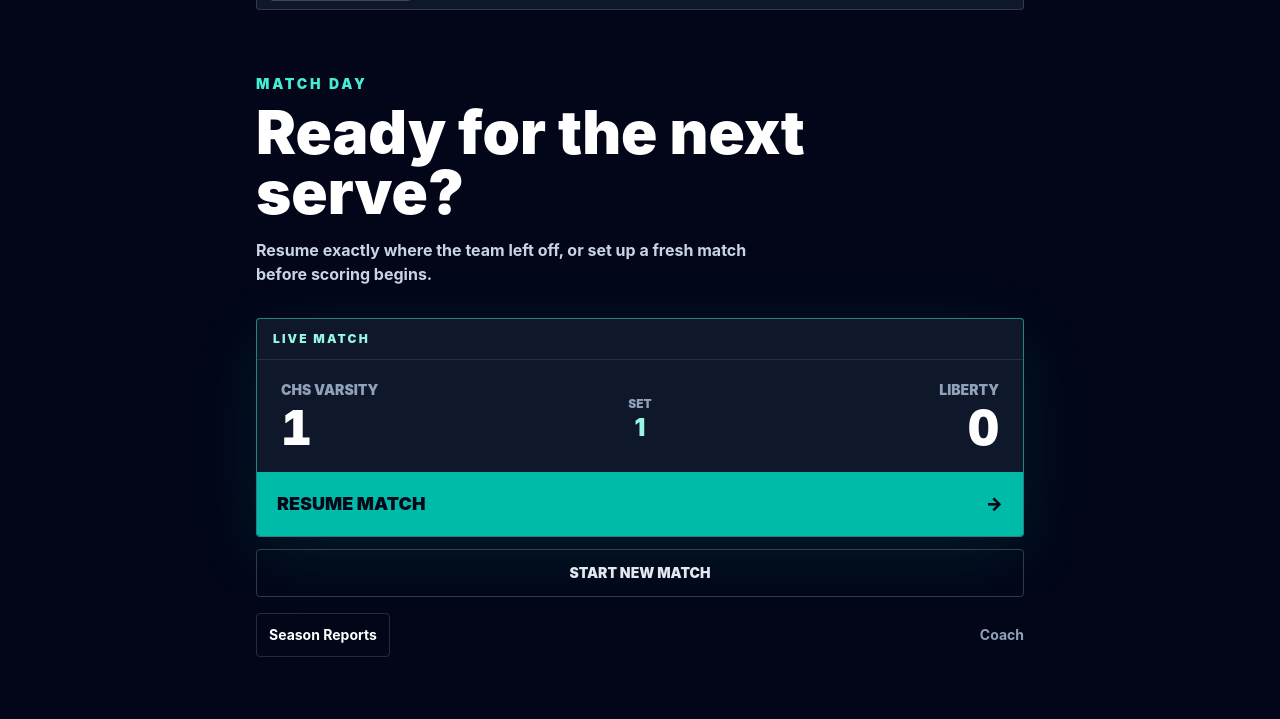
Test: CourtsideMatchbook match launch flow › cancels manual match completion without changing saved entries
(page scrolled)
Click the button "Resume Match →" at (351, 504), box [257, 472, 1023, 536]
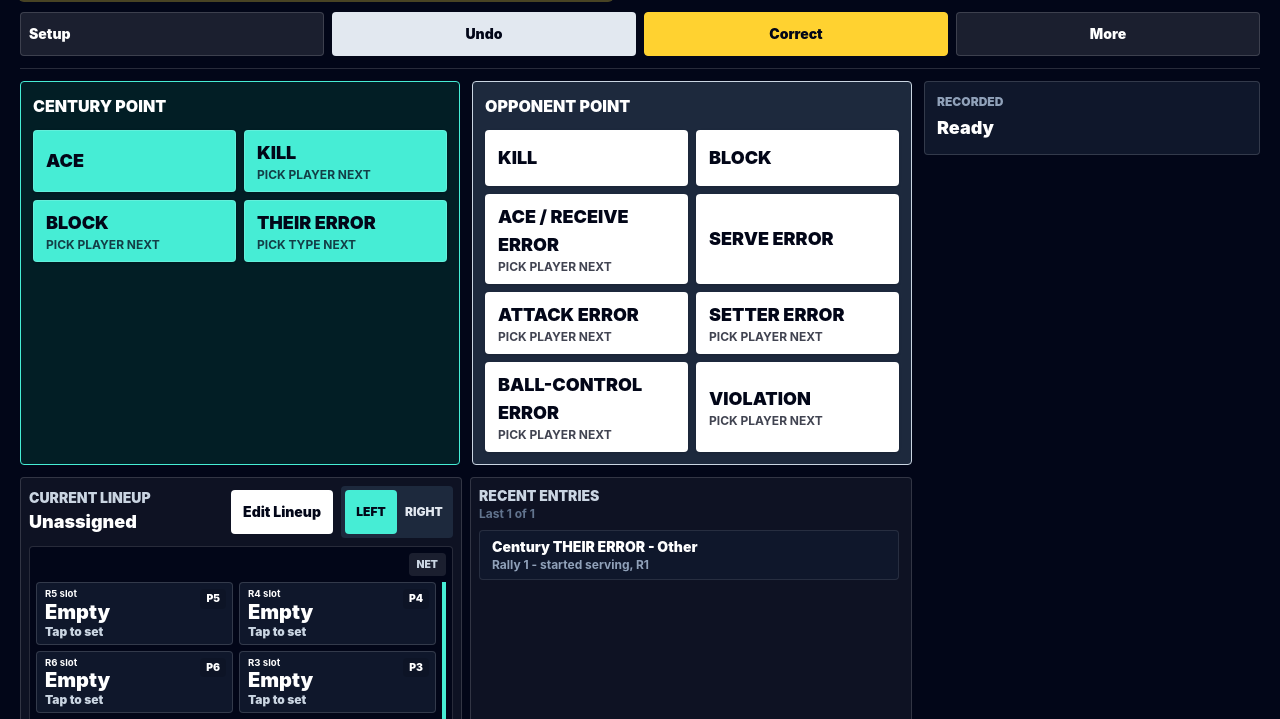
Click the button "More" at (1108, 34), box [956, 12, 1260, 56]
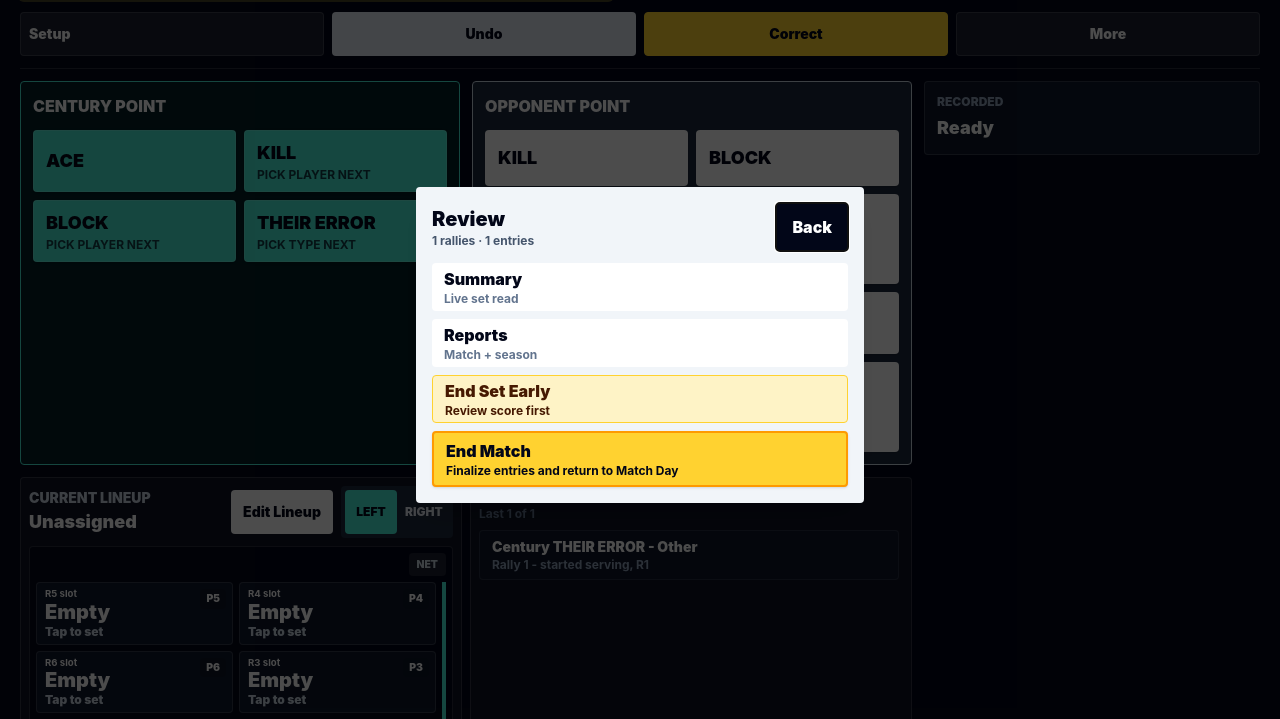
Click the button named "End MatchFinalize entries" at (488, 451), box [432, 431, 848, 487]
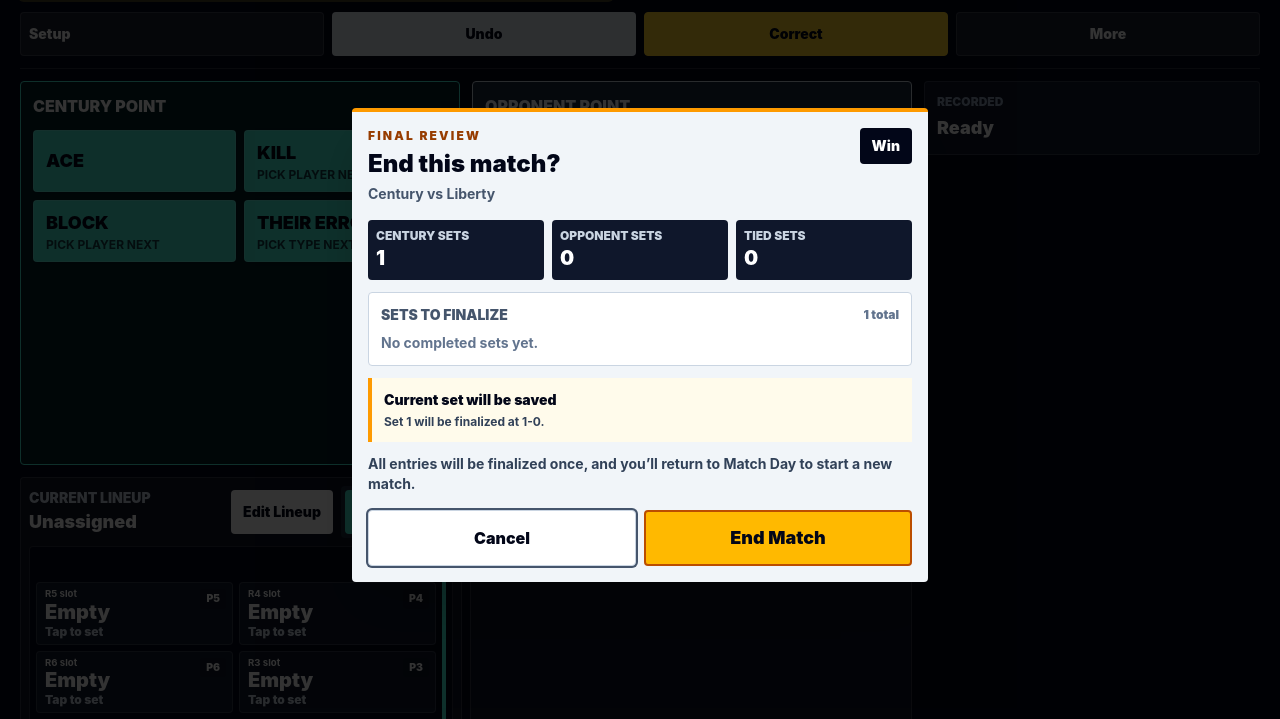
Click the button "Cancel" at (502, 538), box [368, 510, 636, 566]
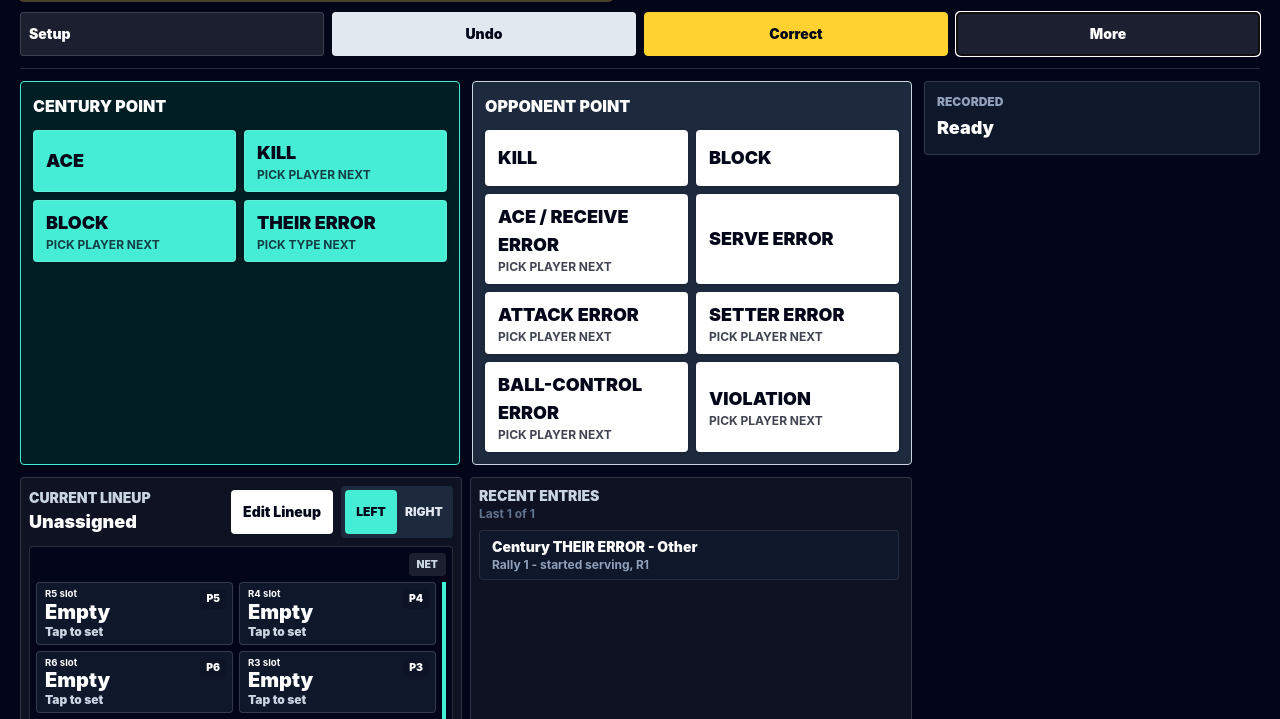
Result: the heading "CENTURY POINT" is shown at [33, 96, 166, 116]
Result: the heading "End this match?" is gone
